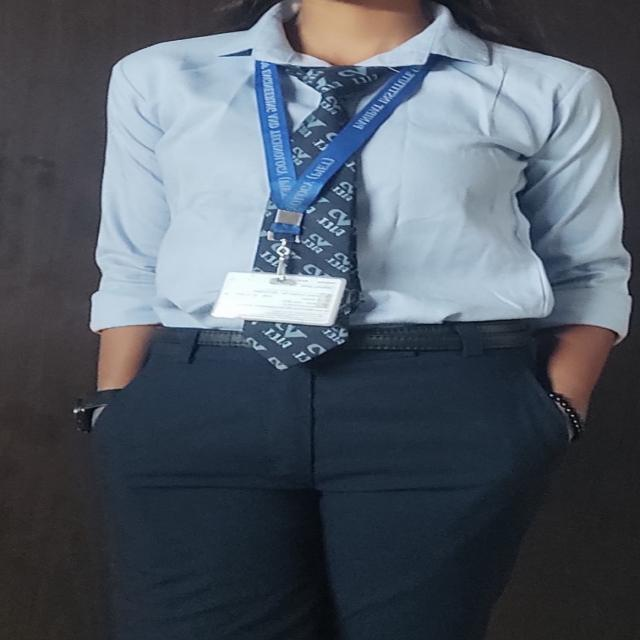Tie: (239, 52, 447, 370)
uniform: (76, 2, 632, 638)
